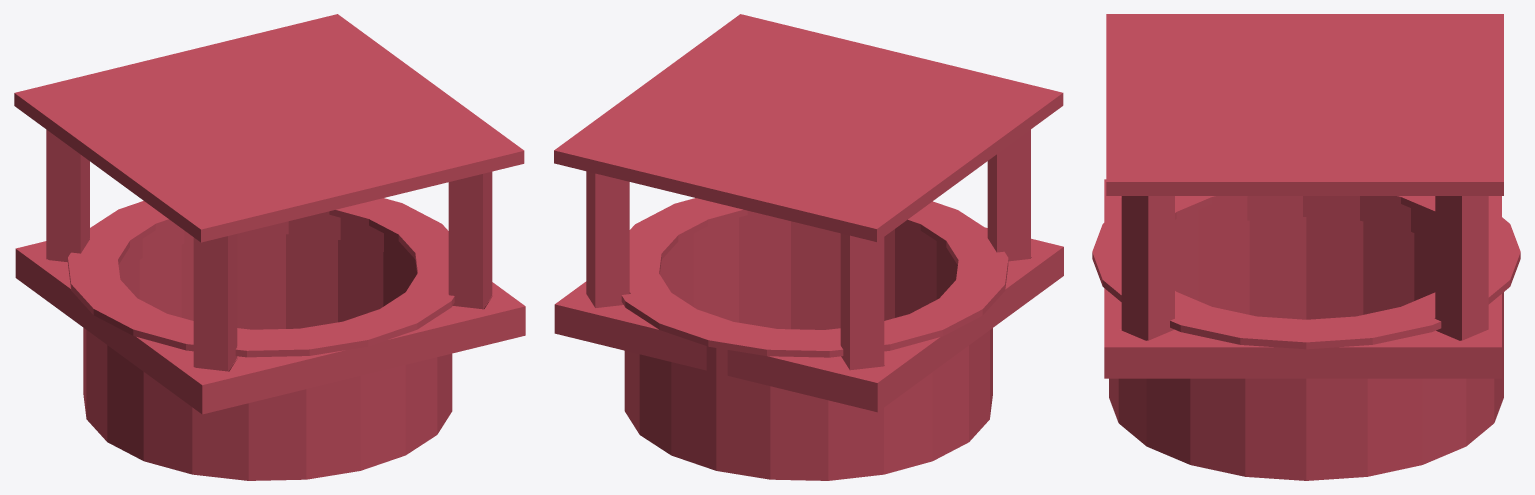
The picture shows the model from 3 angles, left to right: view 1: azimuth 30°, elevation 25°; view 2: azimuth 150°, elevation 25°; view 3: azimuth 270°, elevation 25°; orthographic projection. The views are drawn at different scales.
Parts seen in each view (by area): view 1: Mesh_Mesh_head_geo.001_lambert2SG.001; view 2: Mesh_Mesh_head_geo.001_lambert2SG.001; view 3: Mesh_Mesh_head_geo.001_lambert2SG.001.
Boxes of the visible parts, bbox=[...] form: Mesh_Mesh_head_geo.001_lambert2SG.001: bbox=[14, 14, 525, 480]; Mesh_Mesh_head_geo.001_lambert2SG.001: bbox=[554, 14, 1063, 480]; Mesh_Mesh_head_geo.001_lambert2SG.001: bbox=[1092, 14, 1520, 480].
Bounding box in the file's own units: 180 × 139 × 180.
